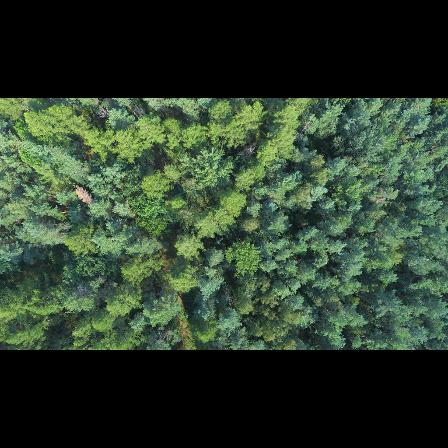Dead: (72, 185, 95, 206)
